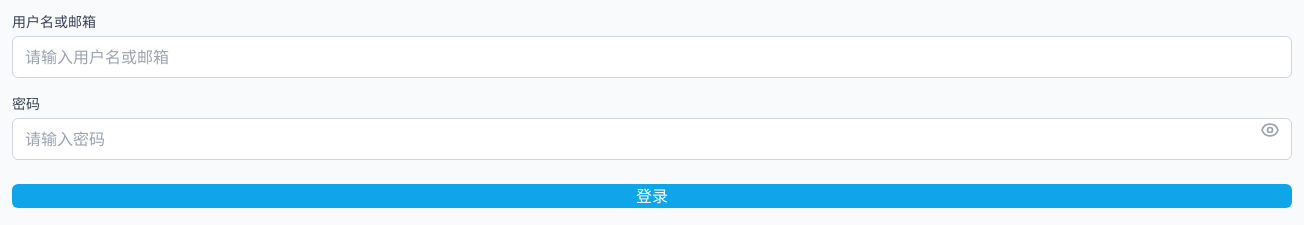
Test: LoginForm - 加载状态 › 提交时应该显示加载状态
The image size is (1304, 225).
Type "test@example.com" into the field labelled "用户名或邮箱" at (652, 57), box top-left (12, 36), bottom-right (1292, 78)
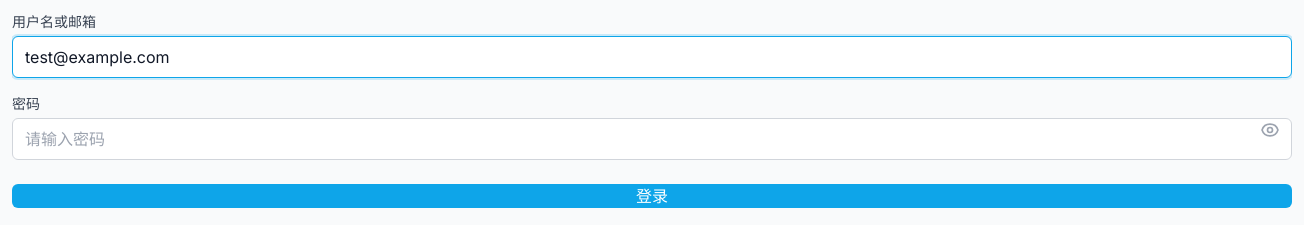
Type "password123" into the password field labelled "密码" at (652, 139), box top-left (12, 118), bottom-right (1292, 160)
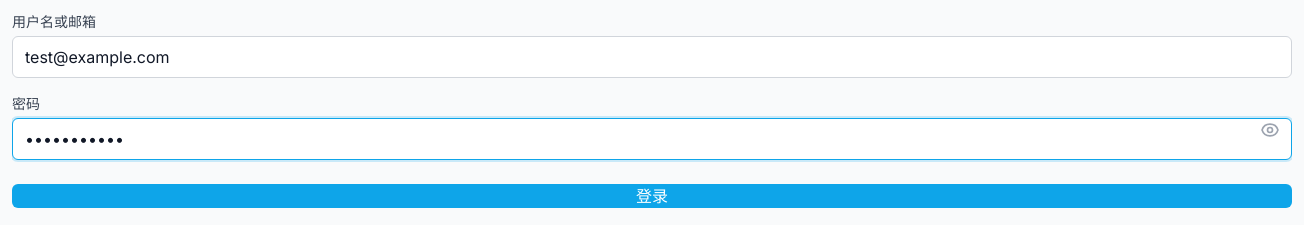
Click the button "登录" at (652, 196), box top-left (12, 184), bottom-right (1292, 208)
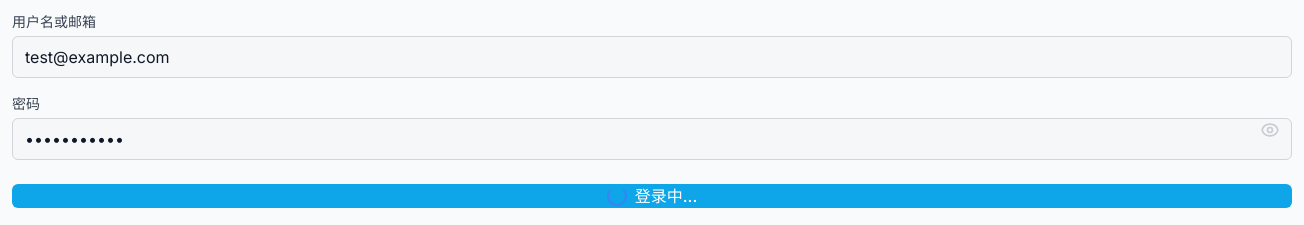
expect the button "登录中..." is disabled: met, box top-left (12, 184), bottom-right (1292, 208)
expect the text "登录中..." is shown: met, box top-left (607, 184), bottom-right (697, 208)
